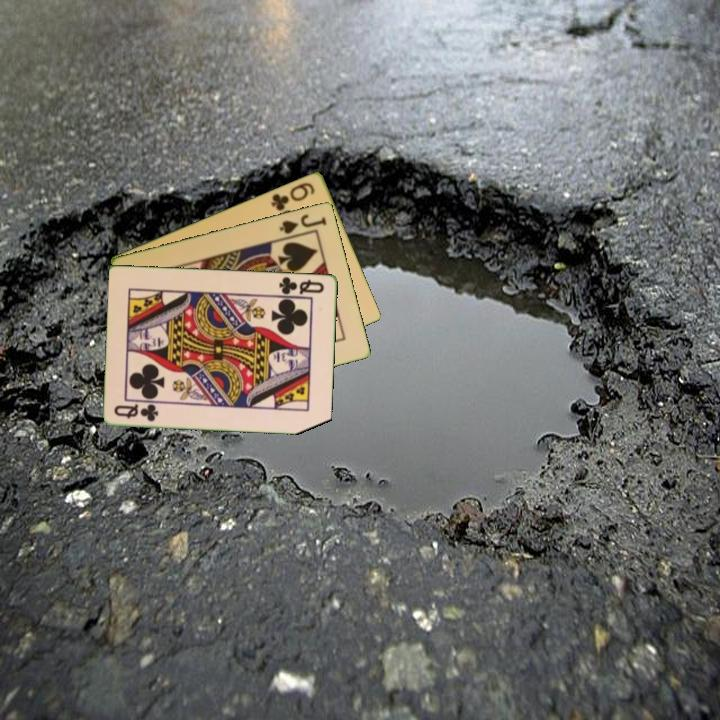6c: (267, 178, 318, 214)
Js: (276, 210, 329, 237)
Qc: (276, 273, 327, 297), (111, 400, 161, 424)
